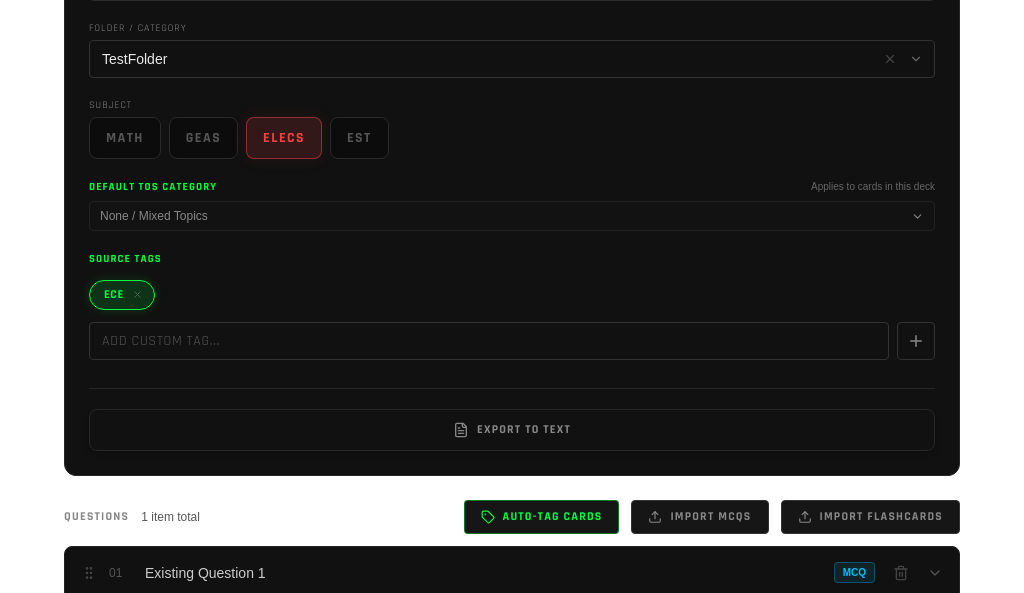
Scenario: EditDeck Import Functionality › preserves expanded state of cards when saving changes
(page scrolled)
What coordinates should you click on to do the following:
click the text "Existing Question 1"
I would click on:
 (205, 573)
Its box is [145,565,266,581].
(page scrolled)
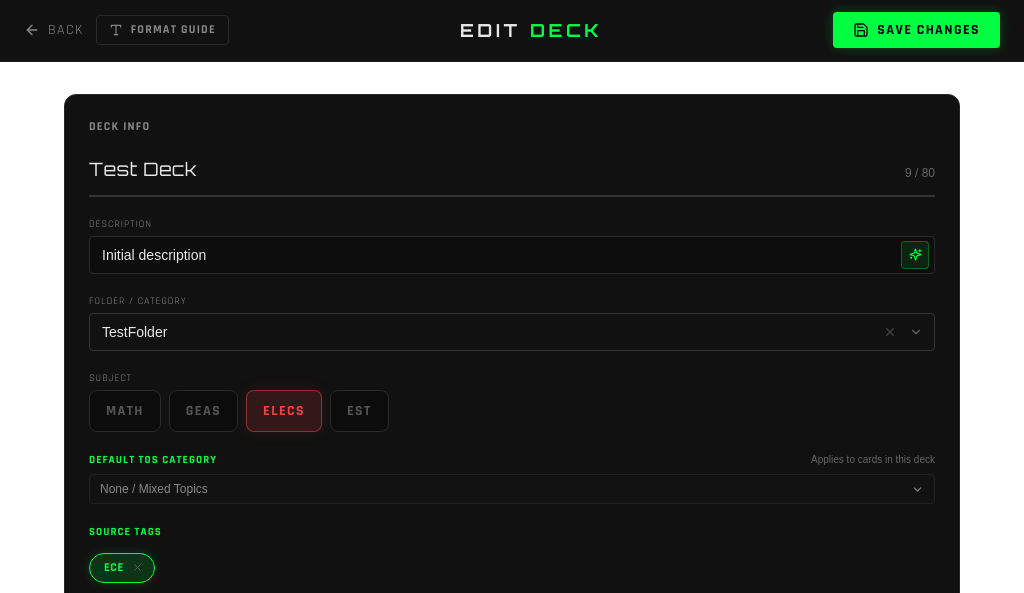
What coordinates should you click on to do the following:
click the button "Save Changes"
I would click on:
 (917, 30)
Its box is [833,12,1000,48].
(page scrolled)
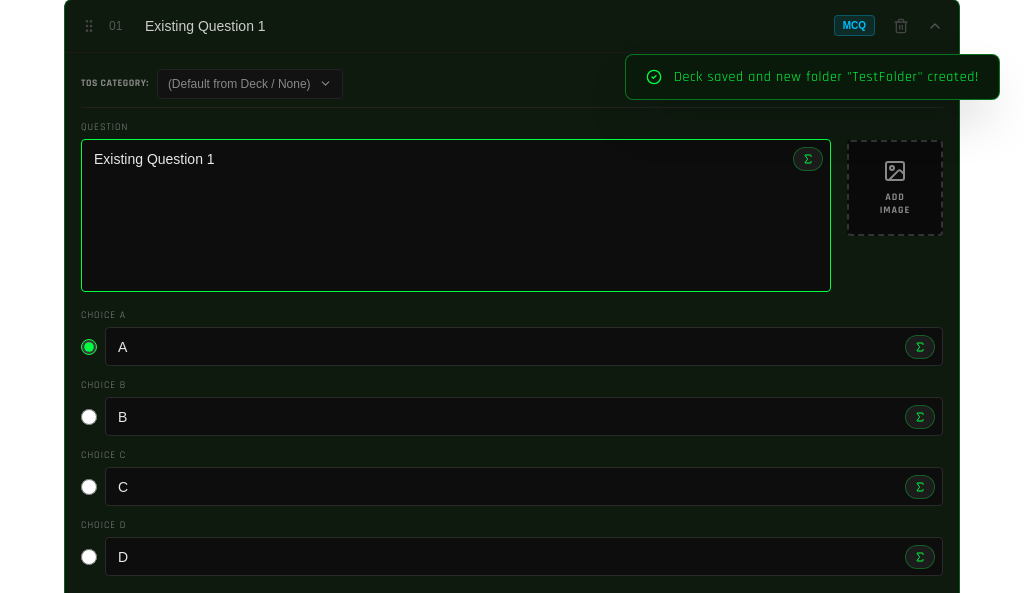
expect the 1st radio button is shown: met, box [81,339,97,355]
